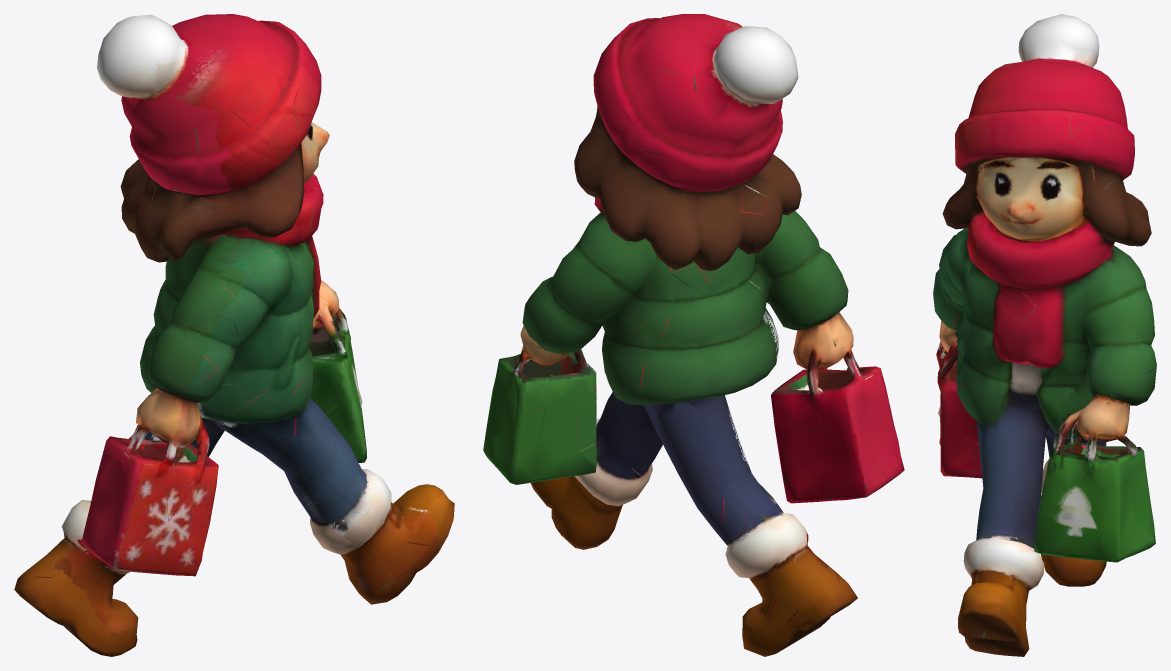
Rendered from shopper.glb.
3 renders of one model, left to right at view 1: azimuth 30°, elevation 25°; view 2: azimuth 150°, elevation 25°; view 3: azimuth 270°, elevation 25°, orthographic. The views are drawn at different scales.
Parts seen in each view (by area): view 1: geometry_0; view 2: geometry_0; view 3: geometry_0.
Boxes of the visible parts, box(x1,y1,x2,y2) form: geometry_0: box(14, 14, 454, 656); geometry_0: box(483, 14, 904, 656); geometry_0: box(933, 14, 1156, 656).
Size of the model in its own units: 1.27 by 1.99 by 0.7075.
1 material, 1 textured.
